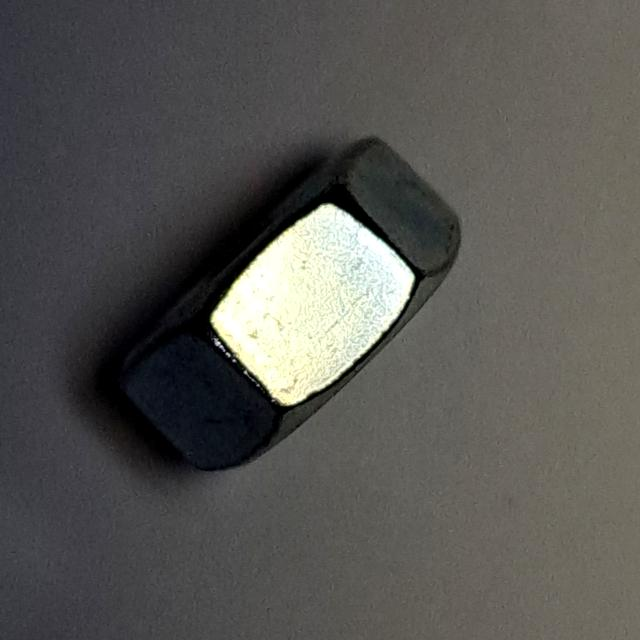Side_Excellent: (92, 124, 483, 488)
